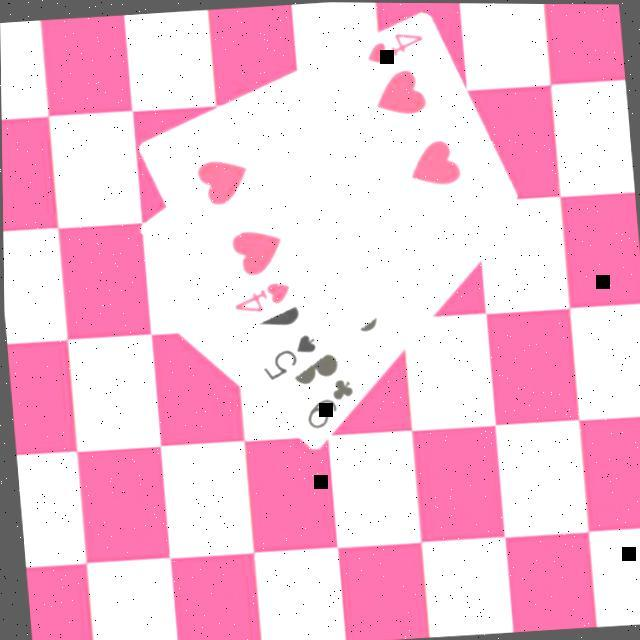4H: (225, 275, 291, 315), (359, 26, 425, 66)
5S: (254, 328, 320, 382)
9C: (296, 372, 357, 431)
